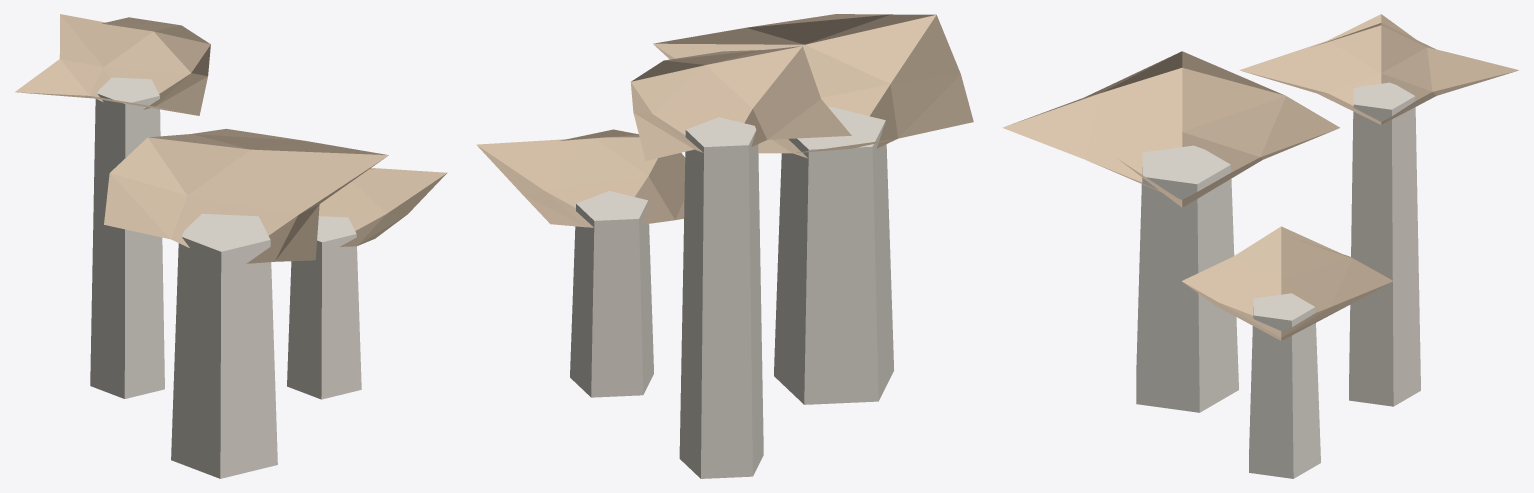
Rendered from mushroom_v41.glb.
3 views of the same model, side by side, from view 1: azimuth 30°, elevation 25°; view 2: azimuth 150°, elevation 25°; view 3: azimuth 270°, elevation 25° (orthographic). The views are drawn at different scales.
Visible parts, largest first — view 1: lod0; view 2: lod0; view 3: lod0.
Part boxes in pixels (x1,y1,x2,y2): lod0: (15,14,447,478); lod0: (476,14,973,478); lod0: (1002,14,1518,478).
Size of what is drawn, in the model's own units: 0.4777 by 0.4244 by 0.5414.
